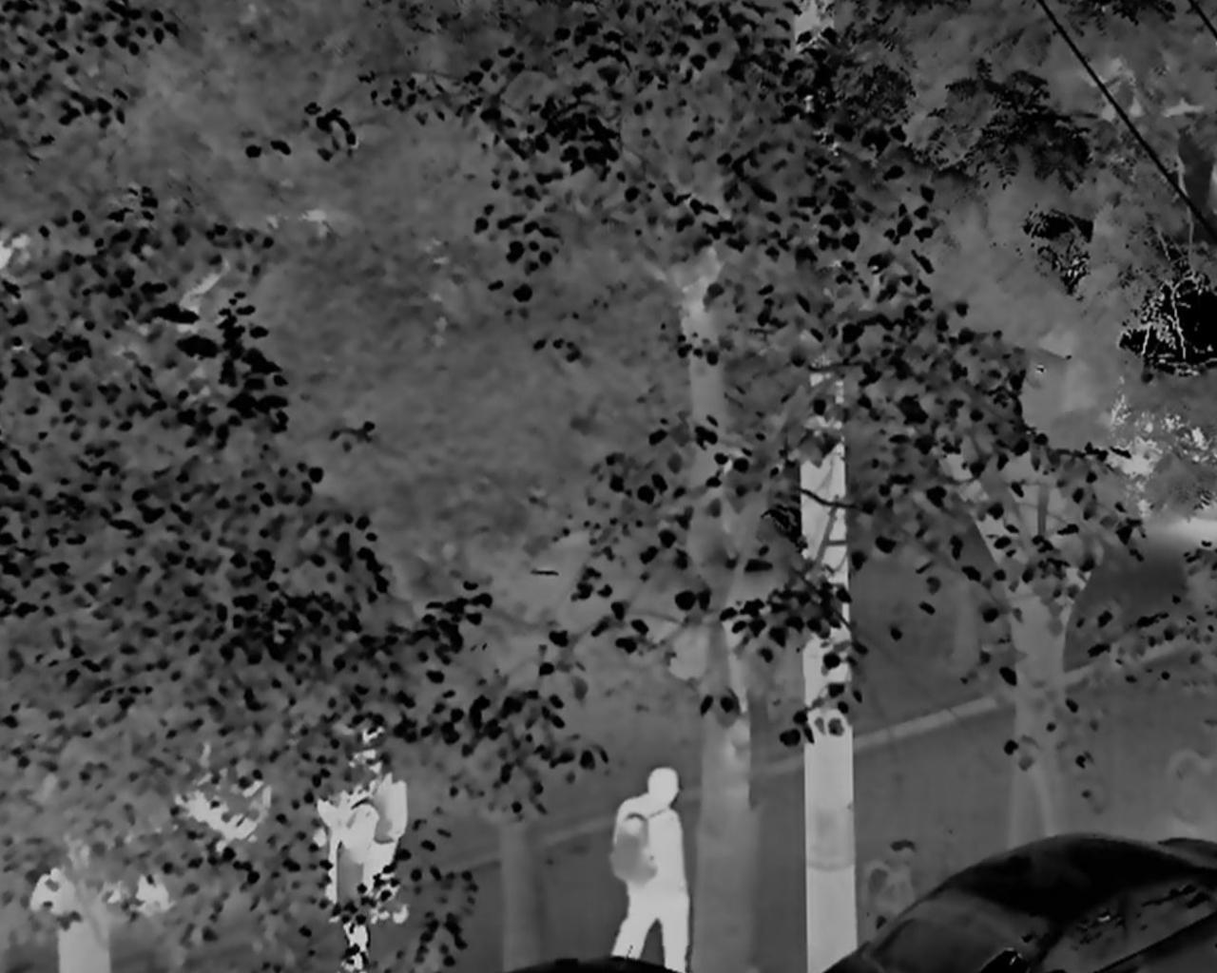person: (315, 719, 412, 971), (604, 762, 698, 973)
